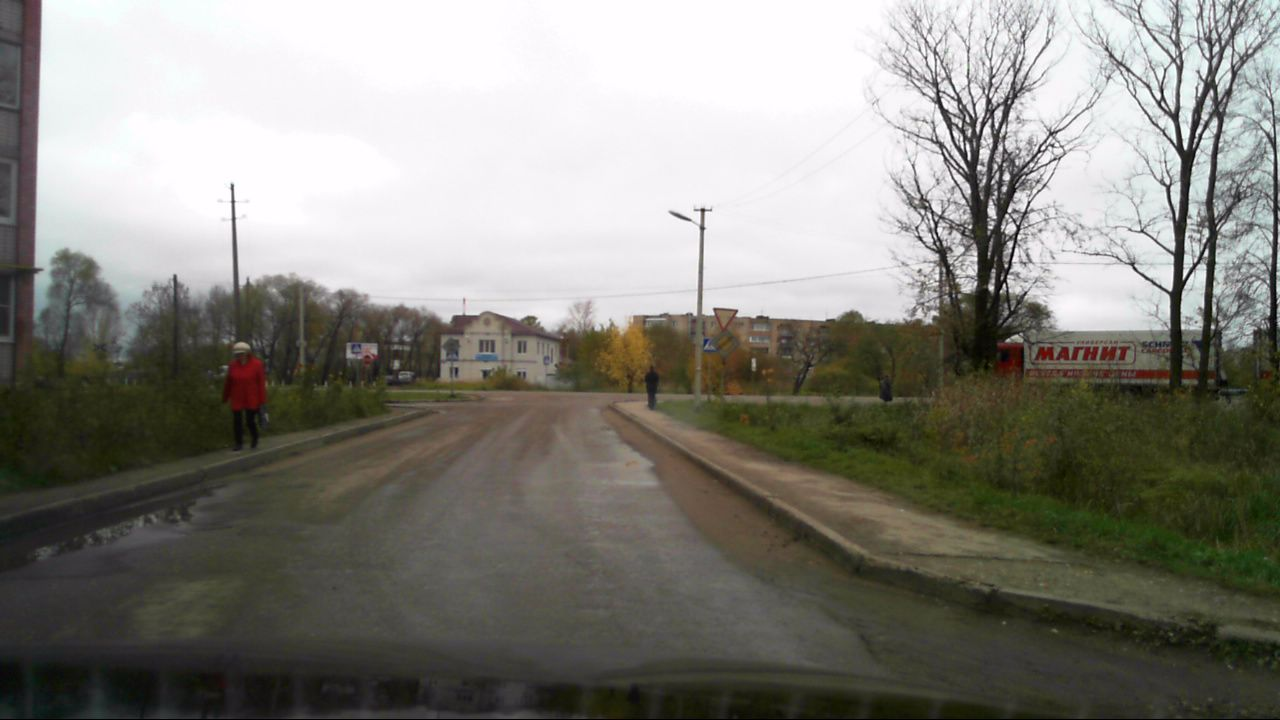main road: (710, 330, 738, 359)
